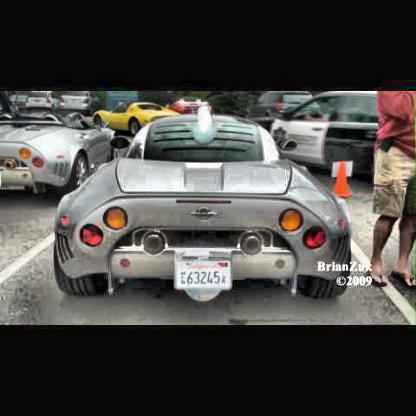Spyker C8 Coupe 2009: (54, 106, 350, 306)
